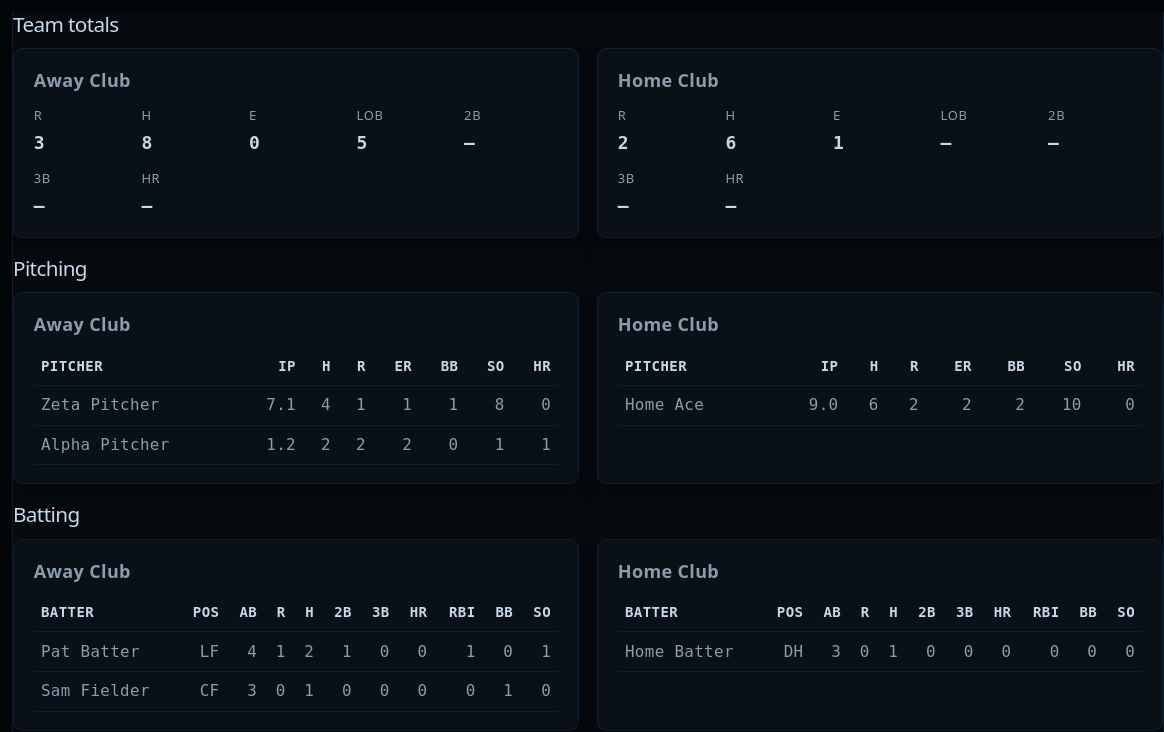
Scenario: GameBoxscorePanel › renders home batting rows and supports sorting them
The image size is (1164, 732).
Expected: the text "Home Batter" is shown, [618,632,762,672]
Click the 2nd button "AB". click: (832, 612)
box: [823,599,841,625]
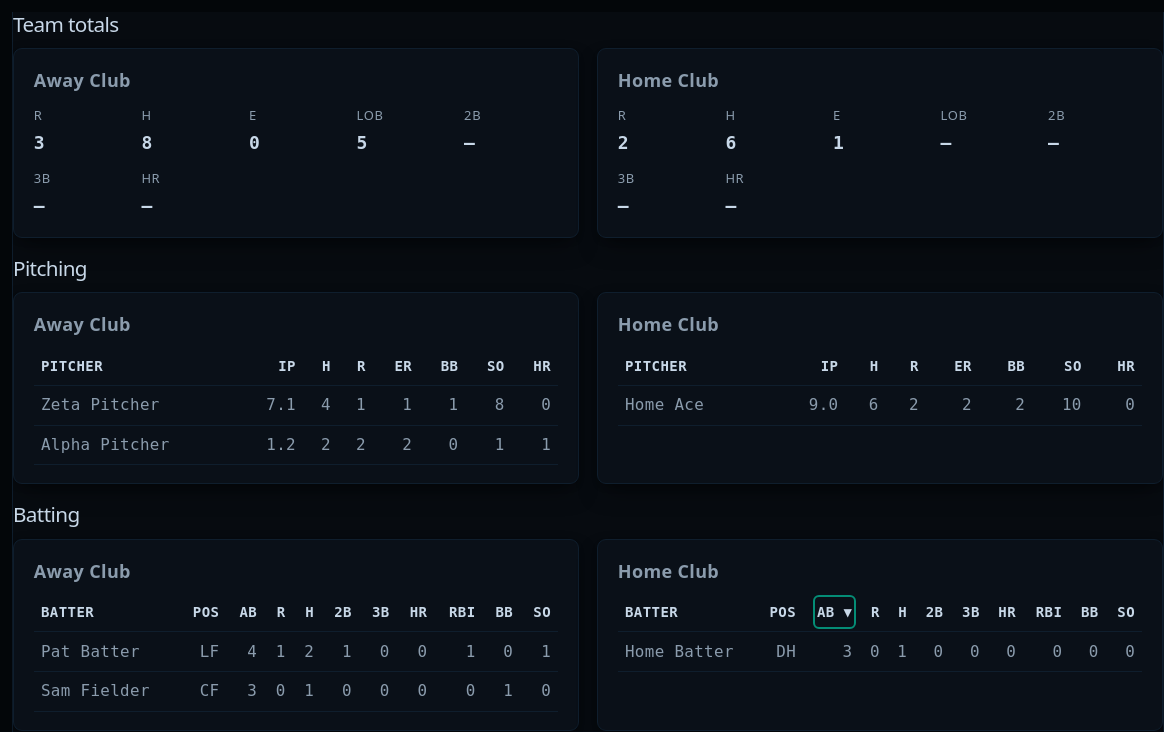
Expected: the button "AB ▼" is shown, [817,599,852,625]
